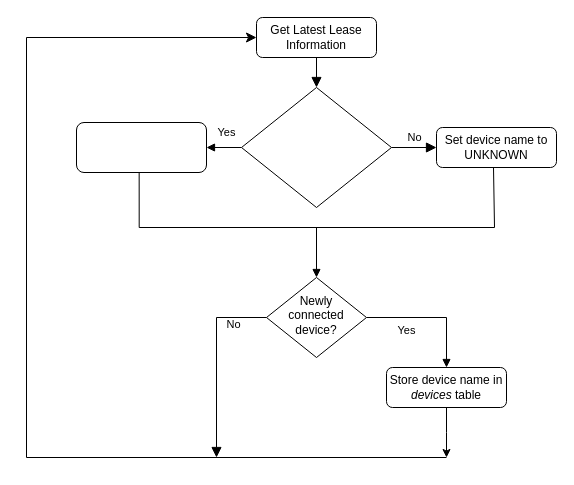
The diagram is 574 pixels wide and 485 high, and some of its shapes have lost their labels. The box of each missing label's shape, as (x1, y1, x2, y2) in pixels:
Does lease information contain a hostname?: (240, 86, 392, 208)
Set device name to hostname in lease information: (76, 122, 206, 172)
